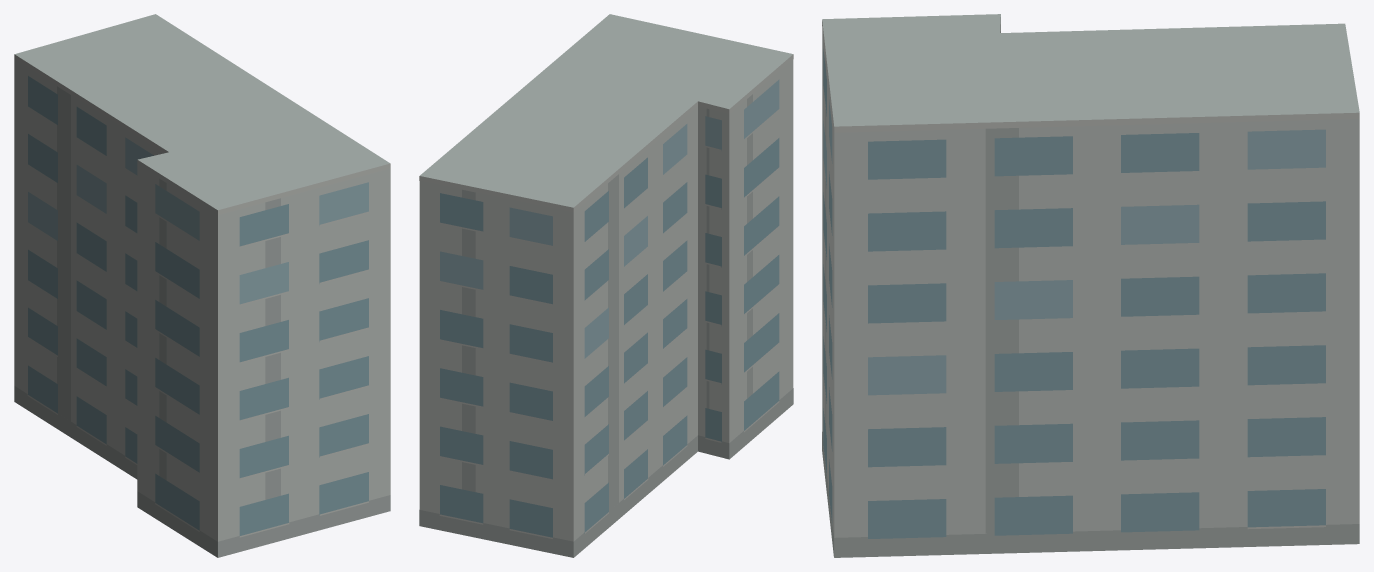
Rendered from survey-upis-32870390.glb.
The picture shows the model from 3 angles, left to right: view 1: azimuth 30°, elevation 25°; view 2: azimuth 150°, elevation 25°; view 3: azimuth 270°, elevation 25°; orthographic projection. The views are drawn at different scales.
Visible parts, largest first — view 1: survey-upis-32870390.tmp; view 2: survey-upis-32870390.tmp; view 3: survey-upis-32870390.tmp.
Boxes of the visible parts, <box> form: survey-upis-32870390.tmp: <box>14,14,390,557</box>; survey-upis-32870390.tmp: <box>419,14,793,557</box>; survey-upis-32870390.tmp: <box>822,14,1359,557</box>.
Bounding box in the file's own units: 9.53 × 17 × 19.22.
